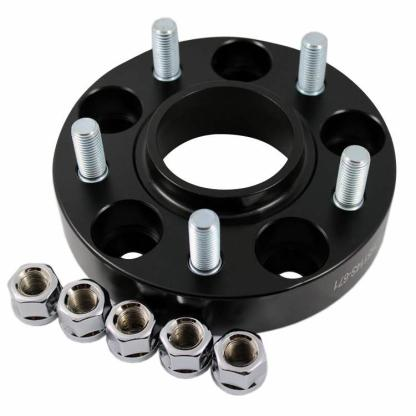FOD: (49, 33, 400, 339), (6, 255, 62, 332), (54, 274, 112, 343)
